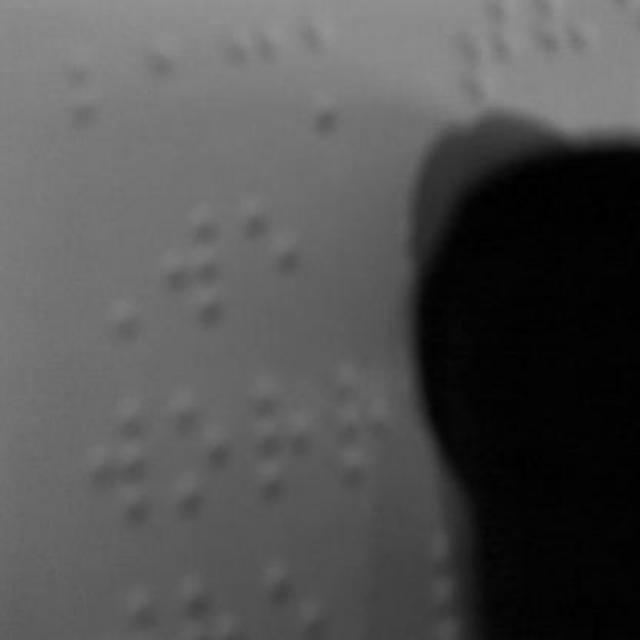braiile: (161, 373, 231, 517), (250, 364, 320, 508), (330, 349, 402, 487), (146, 32, 214, 164), (305, 10, 377, 132), (242, 190, 308, 320), (90, 392, 156, 520), (166, 199, 230, 325), (65, 50, 129, 176), (225, 18, 291, 134)
